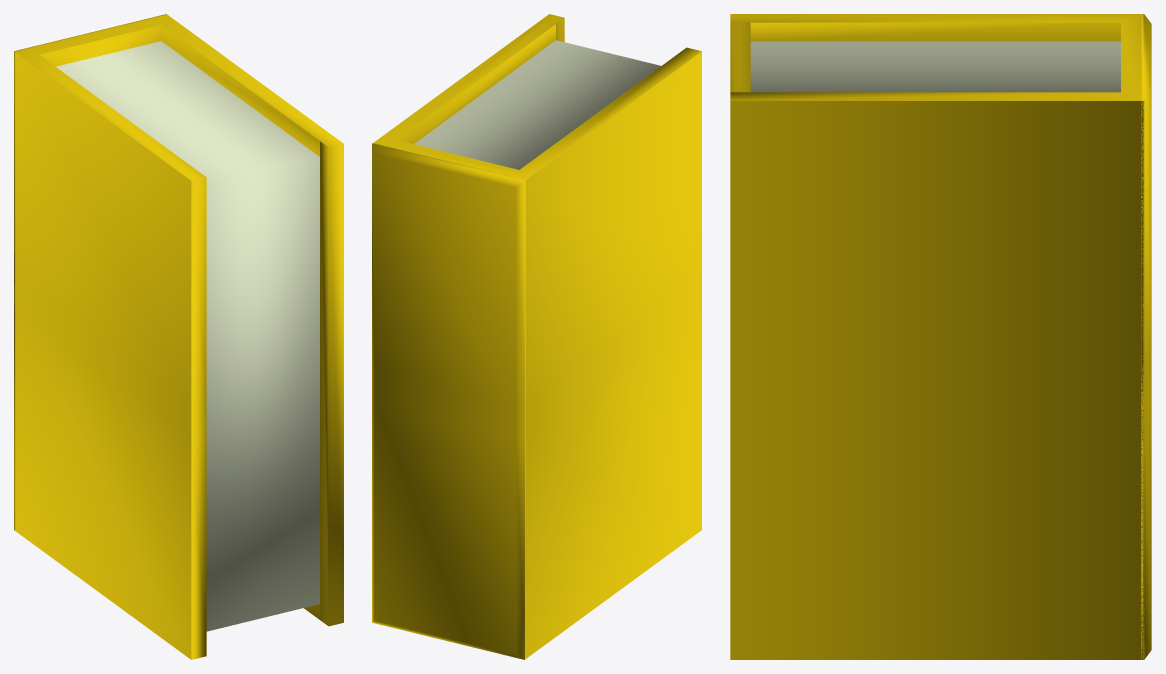
Rendered from SingleBookGold.fbx.
3 views of the same model, side by side, from view 1: azimuth 30°, elevation 25°; view 2: azimuth 150°, elevation 25°; view 3: azimuth 270°, elevation 25° (orthographic). The views are drawn at different scales.
Visible parts, largest first — view 1: Cube; view 2: Cube; view 3: Cube.
Part boxes in pixels (left/top/right/bottom): Cube: left=14, top=14, right=343, bottom=659; Cube: left=372, top=14, right=701, bottom=659; Cube: left=730, top=14, right=1151, bottom=659.
Size of the model in its own units: 10 by 30 by 20.5.
